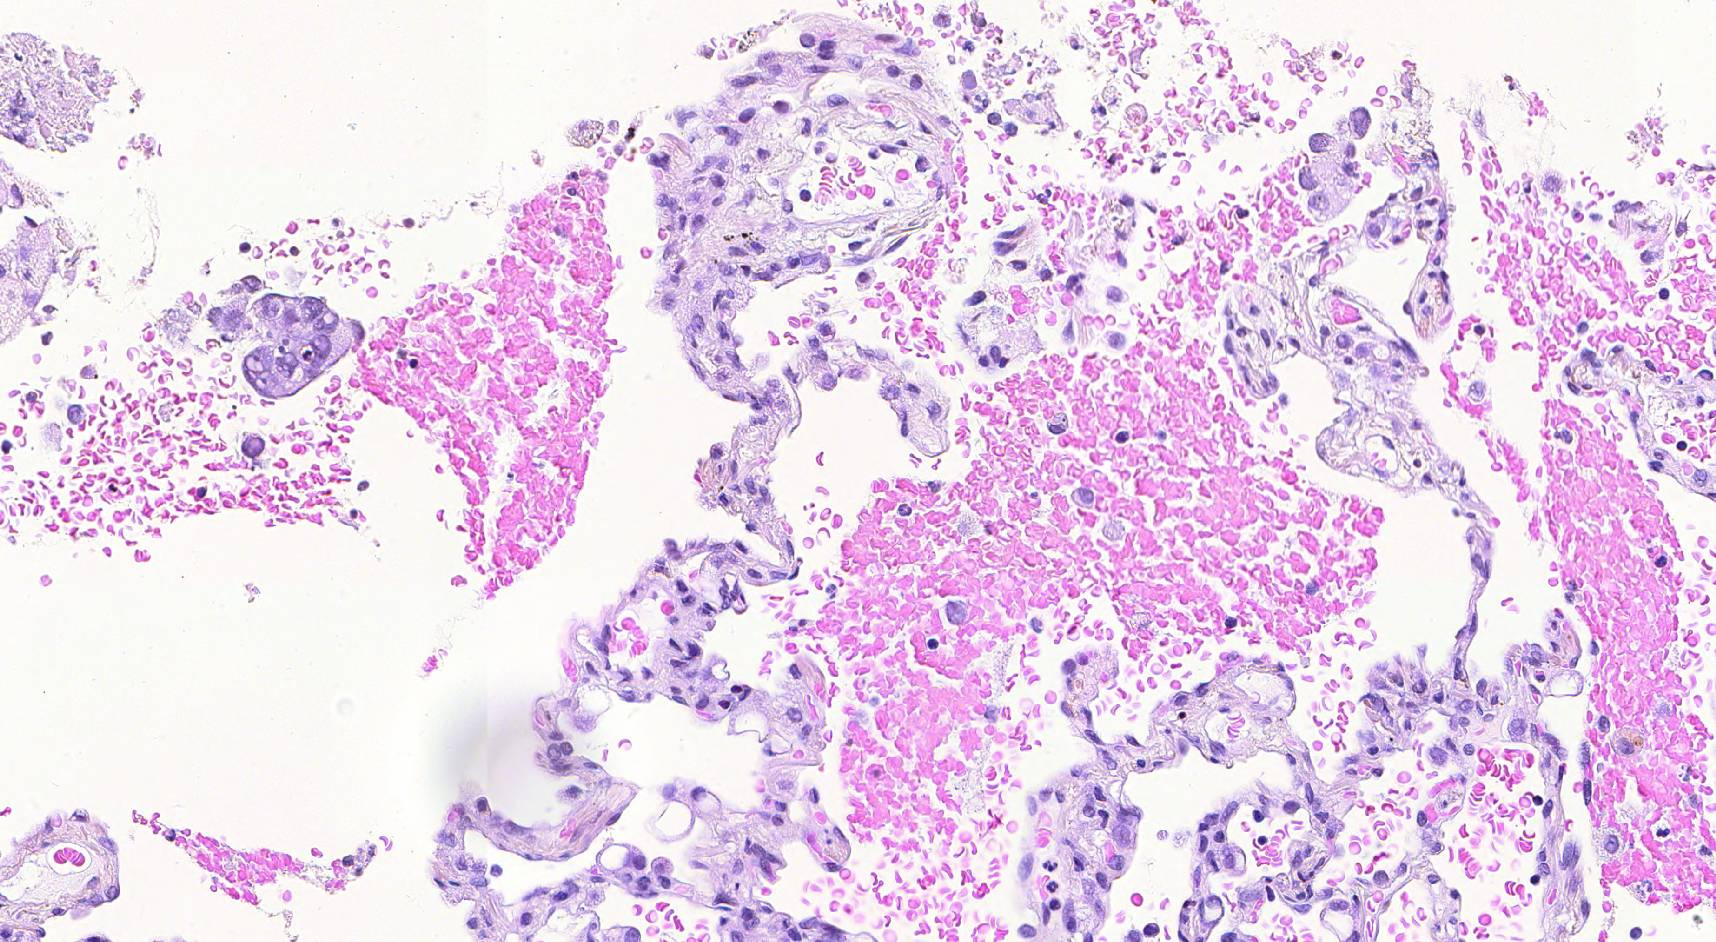stas: (241, 292, 367, 399), (1299, 107, 1372, 221)
